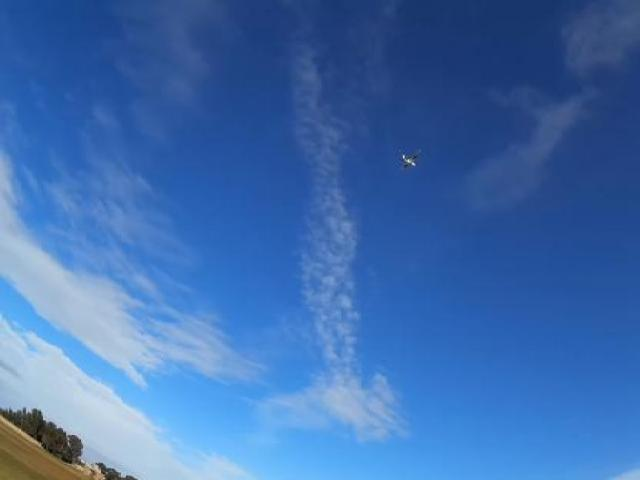uav: (394, 146, 424, 174)
